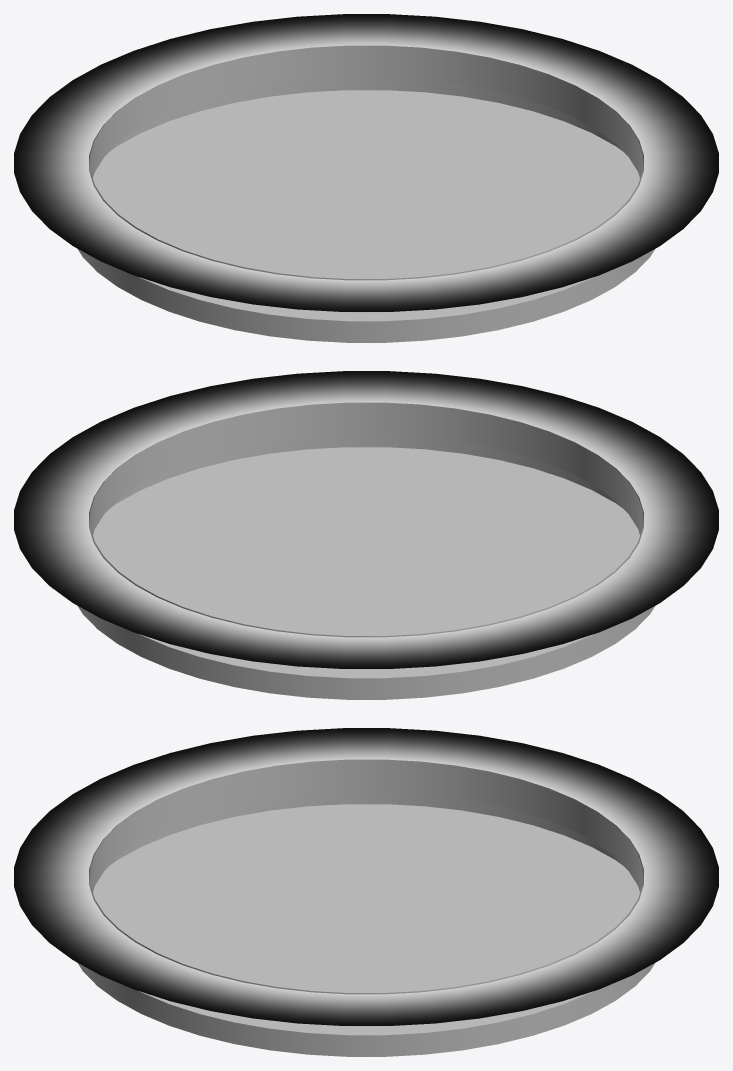
File: CeilingCenter01_1.FBX
3 views of the same model, one above another, from view 1: azimuth 30°, elevation 25°; view 2: azimuth 150°, elevation 25°; view 3: azimuth 270°, elevation 25° (orthographic).
Parts seen in each view (by area): view 1: Ceiling, Backlight; view 2: Ceiling, Backlight; view 3: Ceiling, Backlight.
Part boxes in pixels (bbox=[...]): Ceiling: bbox=[78, 45, 654, 342]; Backlight: bbox=[14, 14, 718, 312]; Ceiling: bbox=[78, 402, 654, 699]; Backlight: bbox=[14, 371, 718, 669]; Ceiling: bbox=[78, 759, 654, 1056]; Backlight: bbox=[14, 728, 718, 1026].
Bounding box in the file's own units: 295 × 26.5 × 295.
